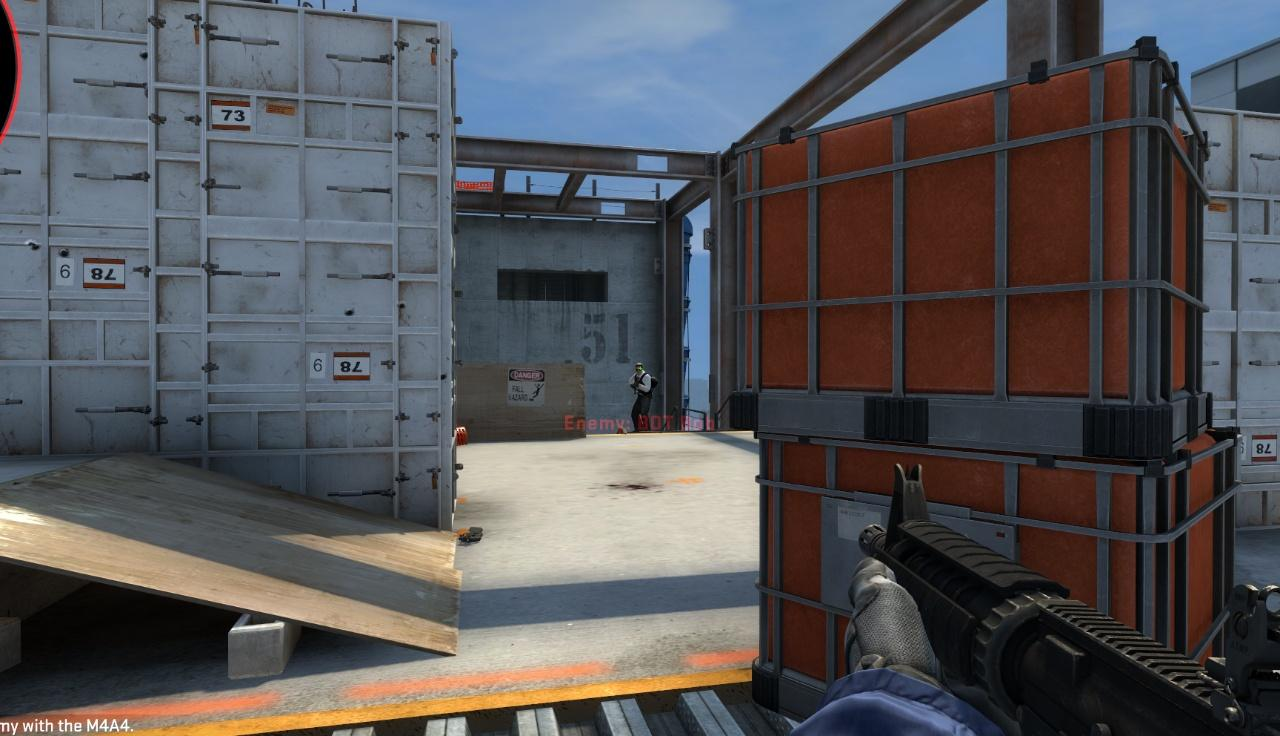rifle: (838, 463, 1280, 733)
tt: (630, 362, 659, 436)
tthead: (635, 362, 644, 375)
